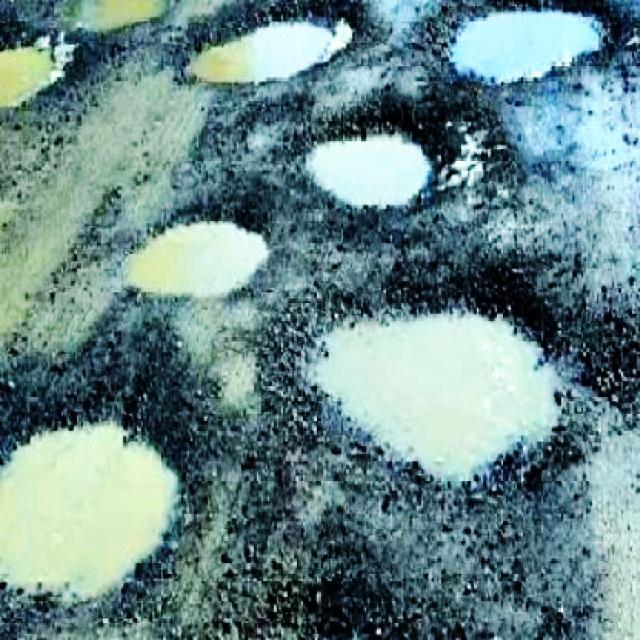pothole: (268, 262, 597, 512), (0, 386, 223, 609), (277, 89, 520, 242), (178, 0, 393, 95), (0, 1, 175, 112), (432, 0, 634, 86), (112, 195, 272, 303)
